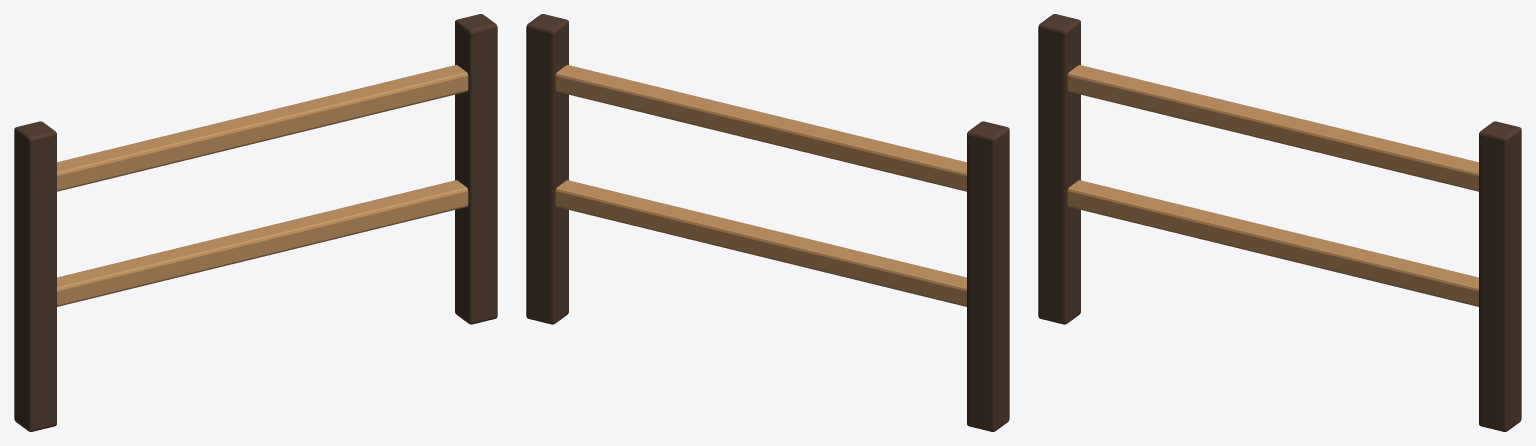
File: stable_rail.glb
The picture shows the model from 3 angles, left to right: view 1: azimuth 30°, elevation 25°; view 2: azimuth 150°, elevation 25°; view 3: azimuth 330°, elevation 25°; orthographic projection.
Parts seen in each view (by area): view 1: stable_rail__structure; view 2: stable_rail__structure; view 3: stable_rail__structure.
Boxes of the visible parts, x1,y1,x2,y2 form: stable_rail__structure: (14, 14, 497, 431); stable_rail__structure: (526, 14, 1009, 431); stable_rail__structure: (1038, 14, 1521, 431).
Size of the model in its own units: 2.13 by 1.28 by 0.13.
